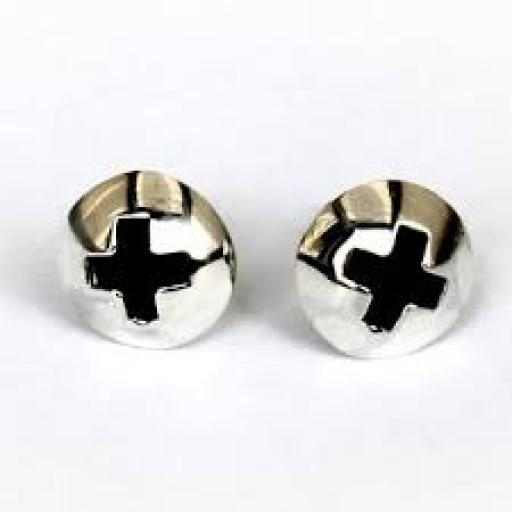Phillips: (295, 177, 476, 369), (58, 171, 240, 356)
